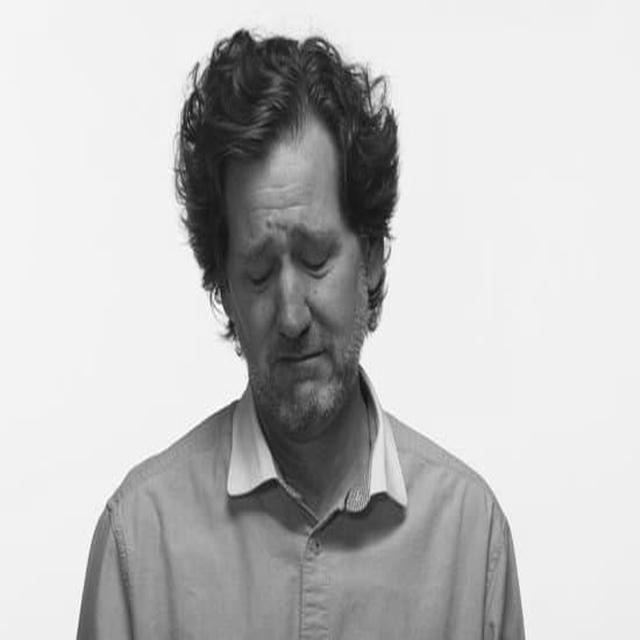Sadness: (234, 138, 352, 425)
